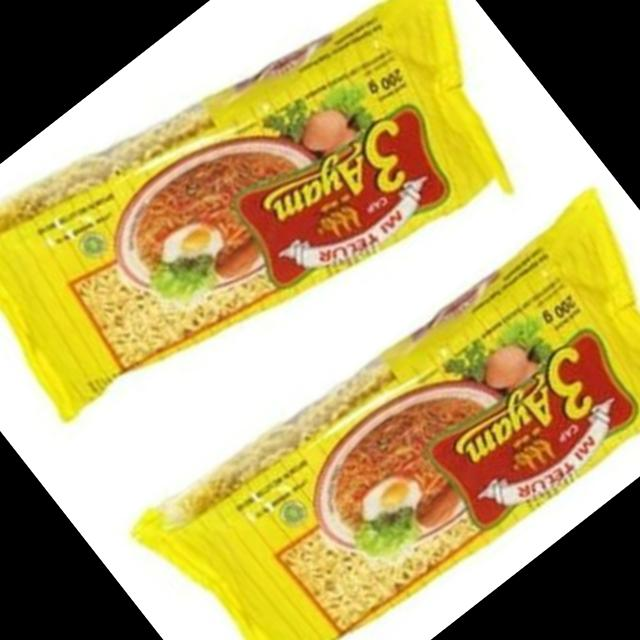KemasanPlastik: (0, 0, 577, 501), (121, 166, 640, 640)
